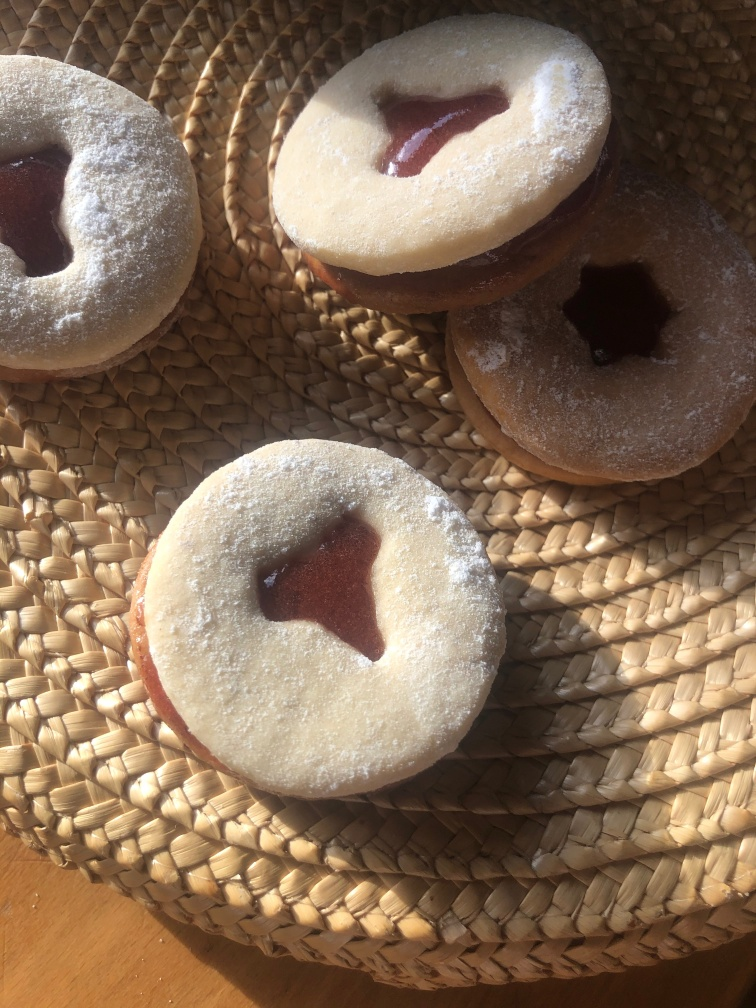christmas shortbread with jam: (136, 435, 507, 800), (272, 12, 608, 270), (472, 227, 754, 504), (3, 54, 201, 383)
